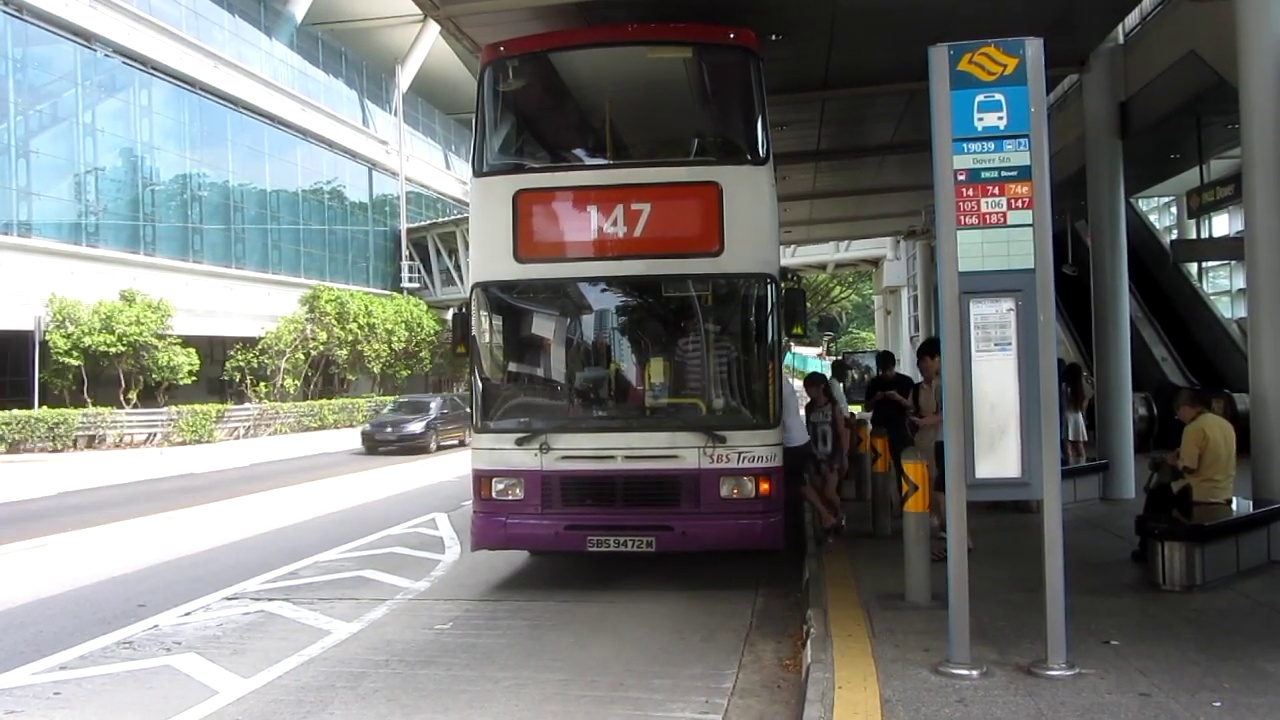bus panel: (510, 179, 727, 267)
